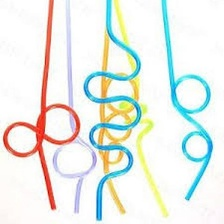drinking_straw: (0, 0, 83, 217), (157, 0, 218, 207)
